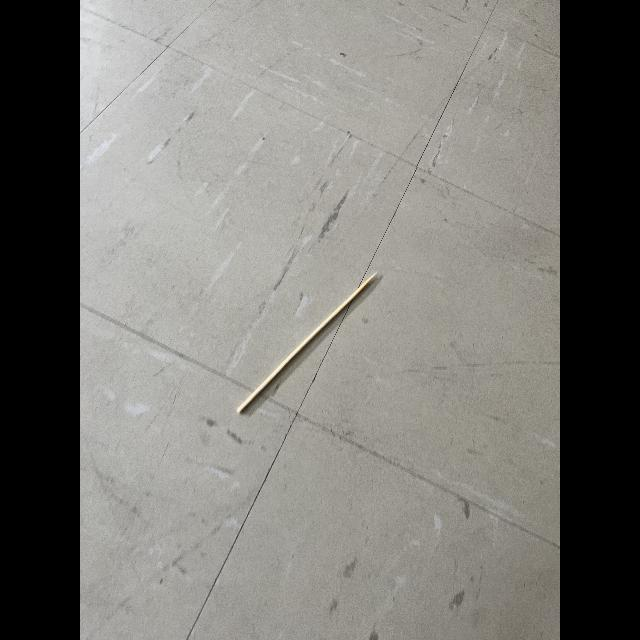stick: (228, 257, 388, 427)
